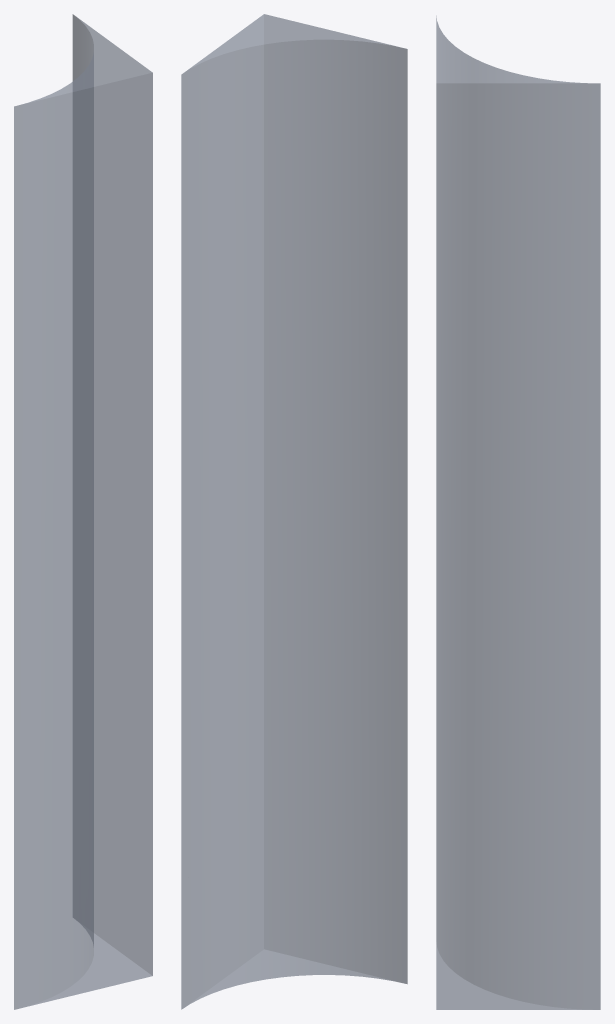
Rendered from pillar-quarterinner-lite.glb.
3 views of the same model, side by side, from view 1: azimuth 30°, elevation 25°; view 2: azimuth 150°, elevation 25°; view 3: azimuth 270°, elevation 25° (orthographic). The views are drawn at different scales.
Visible parts, largest first — view 1: pillar-quarterinner; view 2: pillar-quarterinner; view 3: pillar-quarterinner.
Boxes of the visible parts, x1=… form: pillar-quarterinner: x1=14, y1=14, x2=152, y2=1009; pillar-quarterinner: x1=181, y1=14, x2=407, y2=1009; pillar-quarterinner: x1=436, y1=15, x2=600, y2=1009.
Bounding box in the file's own units: 0.45 × 2.8 × 0.45.
